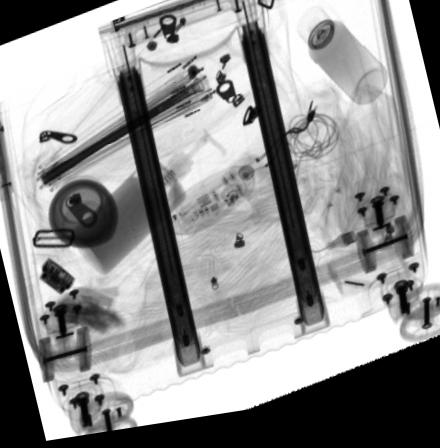Sprayer: (296, 15, 388, 117)
